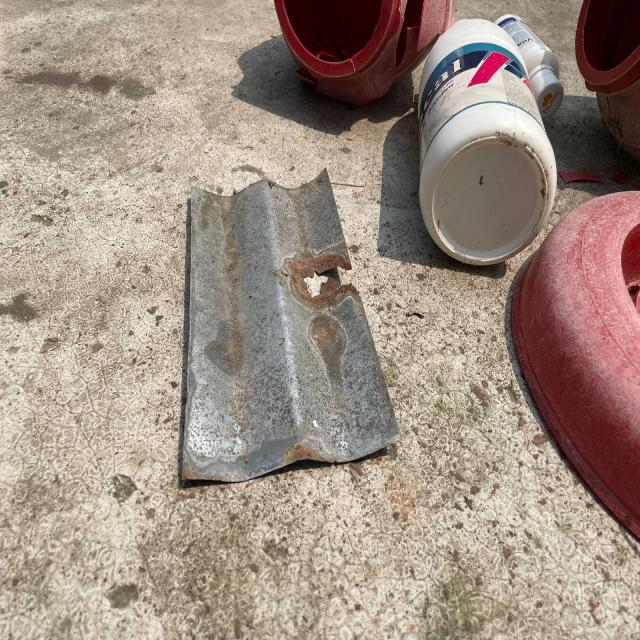Metal: (169, 190, 402, 481)
Plastics: (522, 210, 640, 547), (411, 0, 565, 254), (262, 0, 437, 117), (573, 0, 640, 160)
